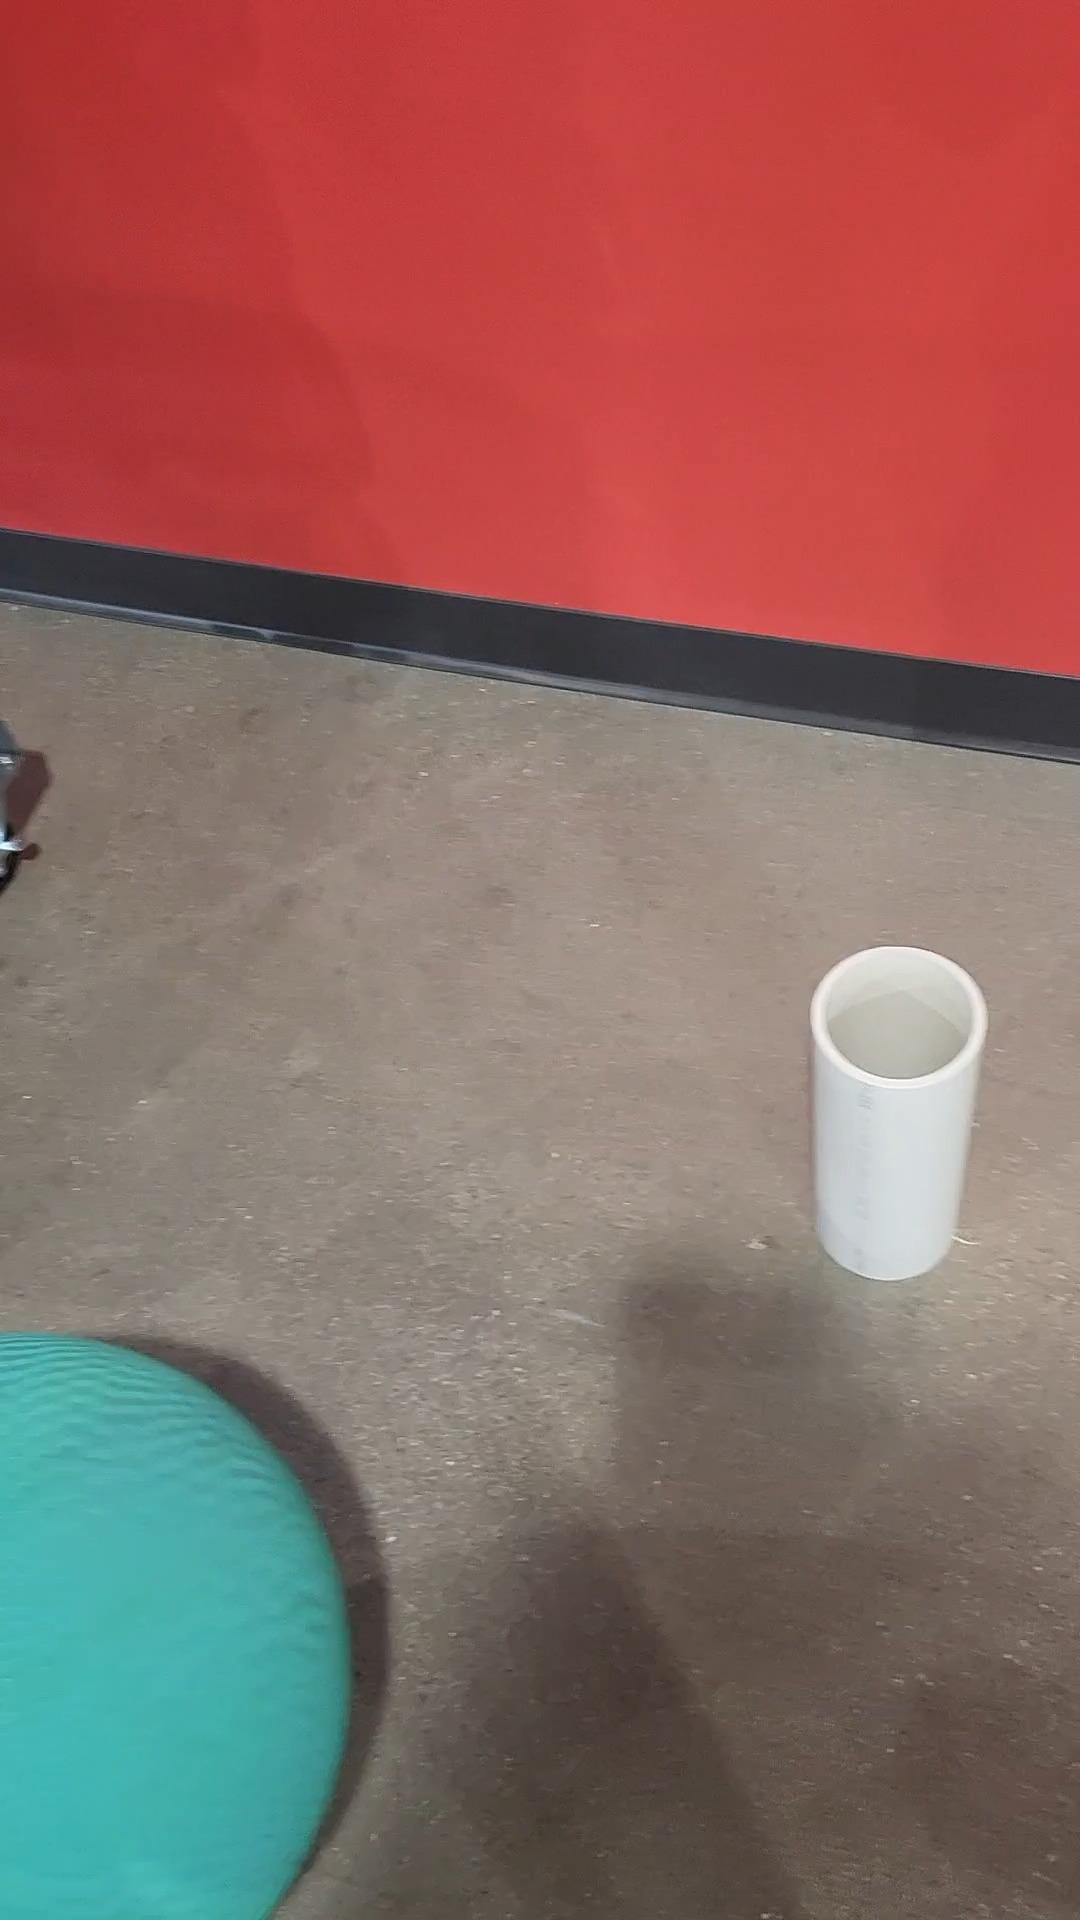algae: (0, 1327, 359, 1920)
coral: (811, 942, 994, 1283)
